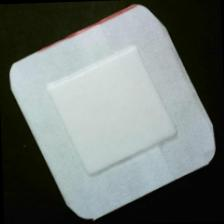Dressing: (8, 2, 223, 224)
Red_T: (22, 2, 146, 63)
